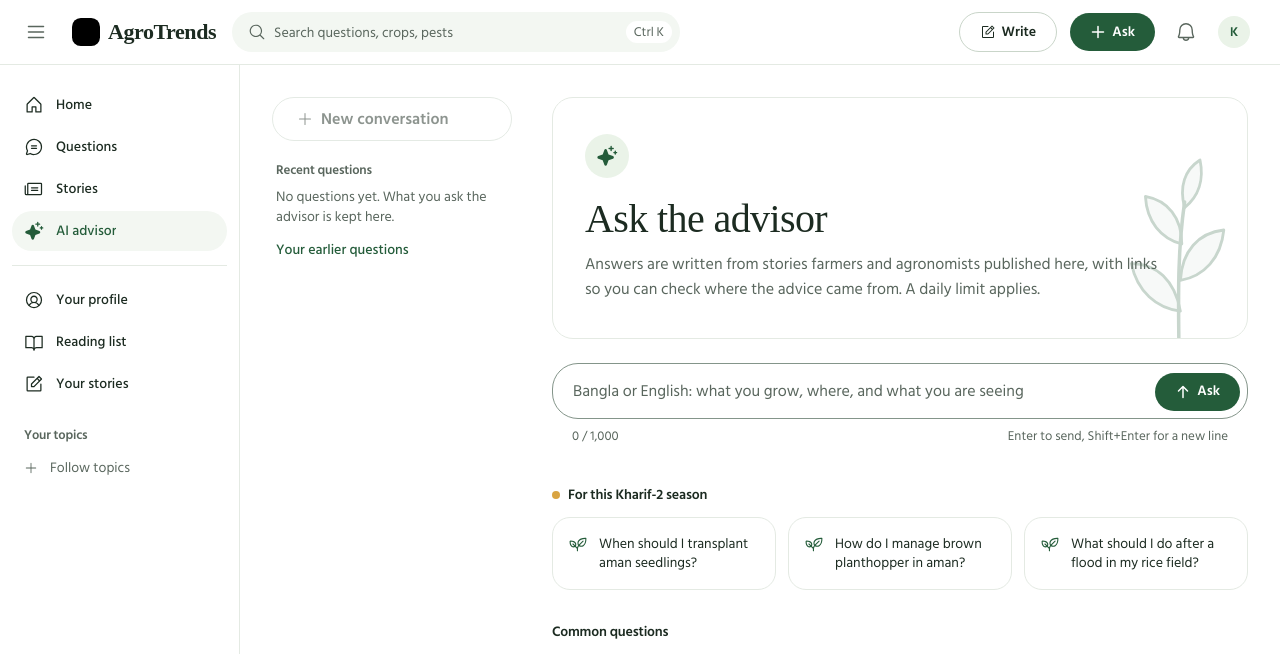
Test: Ctrl+Enter asks once, and the answer is labelled as unchecked AI with its sources apart
In the text box named "Your question": (860,391) [573,370,1146,412], type "Flooded field?"
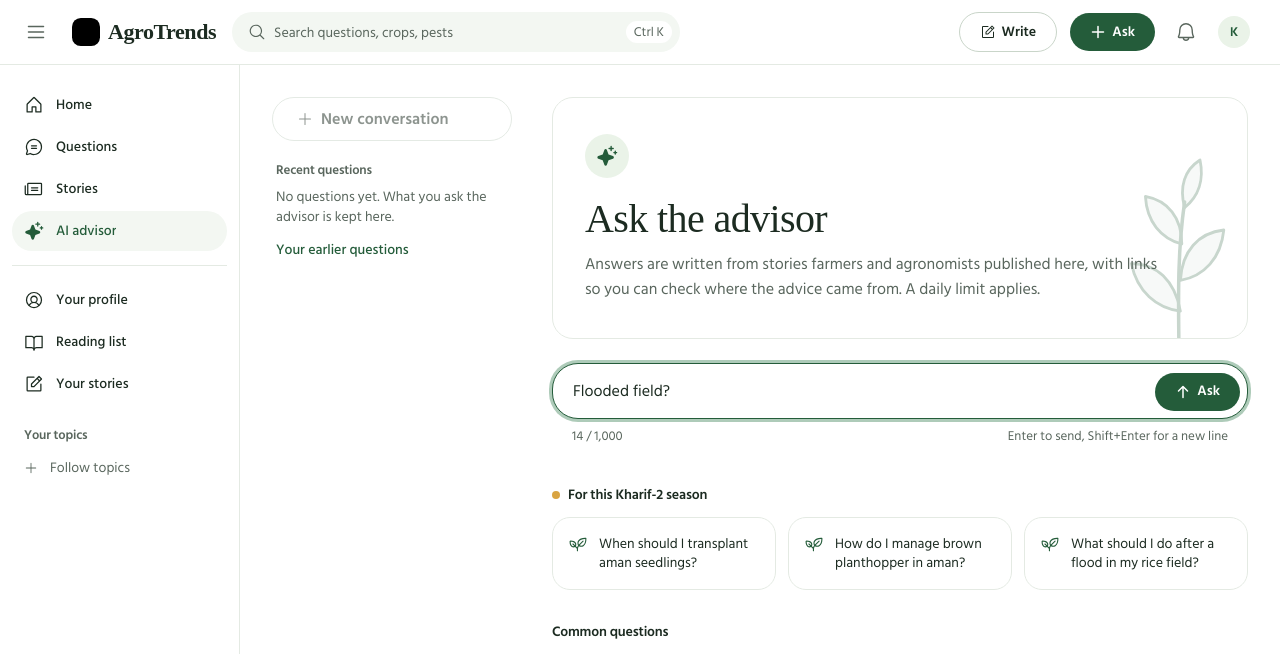
Type keys "{Control>}{Enter}{Enter}{/Control}"
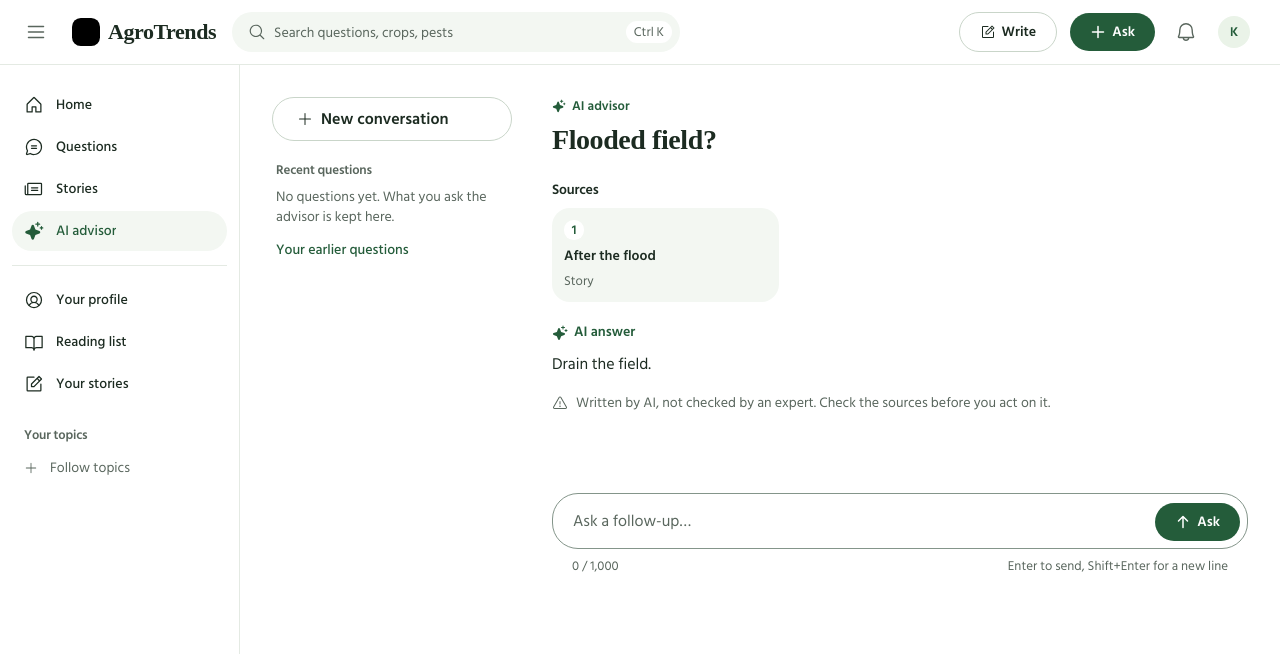
Check: the text "AI answer" is shown, box [552,320,635,344]
Check: the element "Sources" is shown, box [552,178,779,302]
Check: the text "not checked by an expert" is shown, box [576,391,1050,414]
